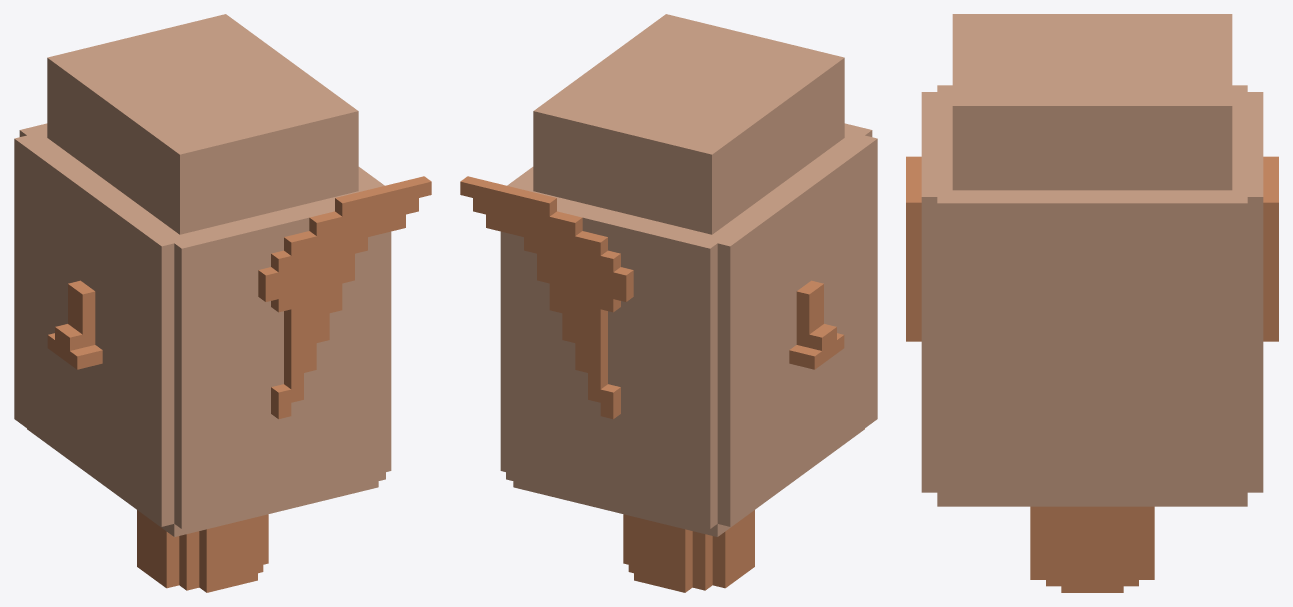
Rendered from head_elf.obj.
The picture shows the model from 3 angles, left to right: view 1: azimuth 30°, elevation 25°; view 2: azimuth 150°, elevation 25°; view 3: azimuth 270°, elevation 25°; orthographic projection. The views are drawn at different scales.
Parts seen in each view (by area): view 1: head_human_box; view 2: head_human_box; view 3: head_human_box.
Boxes of the visible parts, <box> form: head_human_box: <box>14,14,431,592</box>; head_human_box: <box>460,14,877,592</box>; head_human_box: <box>906,14,1278,592</box>.
Bounding box in the file's own units: 22 × 36 × 24.
